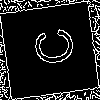C: (25, 25, 76, 69)
